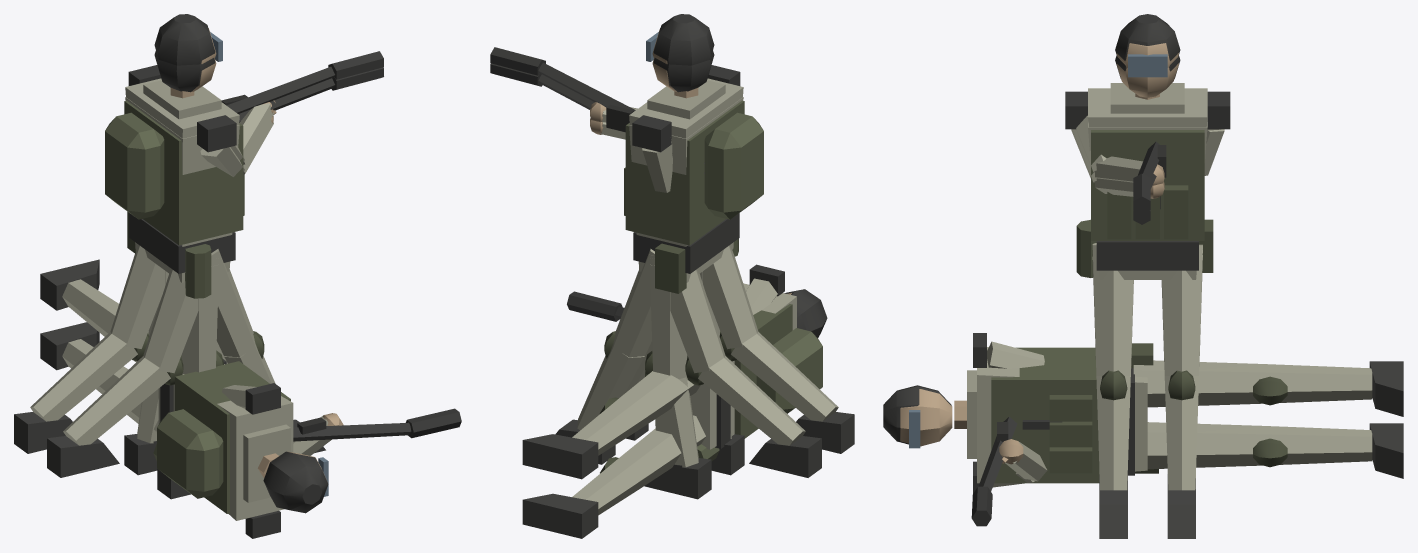
The model's file is commando.glb.
The picture shows the model from 3 angles, left to right: view 1: azimuth 30°, elevation 25°; view 2: azimuth 150°, elevation 25°; view 3: azimuth 270°, elevation 25°; orthographic projection. The views are drawn at different scales.
Parts seen in each view (by area): view 1: dead, hull, pose0, pose1, pose3; view 2: dead, hull, pose0, pose3, pose1; view 3: dead, hull, pose0, pose1, pose3.
Part boxes in pixels (box(x1,y1,x2,y2)): dead: box(40, 259, 461, 538); hull: box(105, 14, 383, 495); pose0: box(105, 50, 383, 499); pose1: box(14, 245, 325, 453); pose3: box(47, 257, 227, 477); dead: box(522, 264, 827, 538); hull: box(490, 14, 763, 490); pose0: box(490, 50, 763, 499); pose3: box(555, 245, 854, 464); pose1: box(625, 258, 821, 477); dead: box(883, 333, 1403, 526); hull: box(1065, 14, 1230, 477); pose0: box(1065, 55, 1230, 368); pose1: box(1092, 244, 1202, 538); pose3: box(1092, 243, 1202, 538).
Size of the model in its own units: 1.43 by 1.83 by 1.83.
